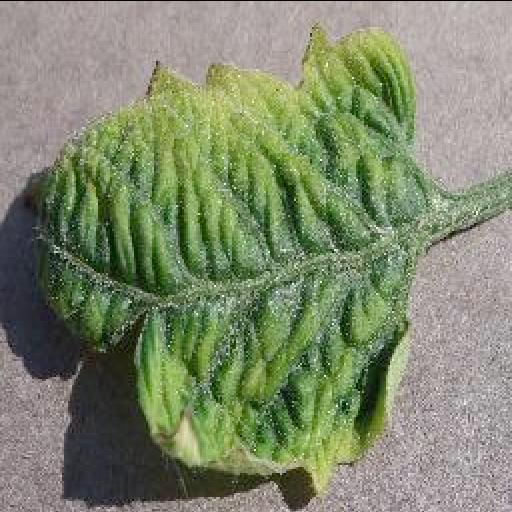disease_tomato: (32, 21, 418, 497)
